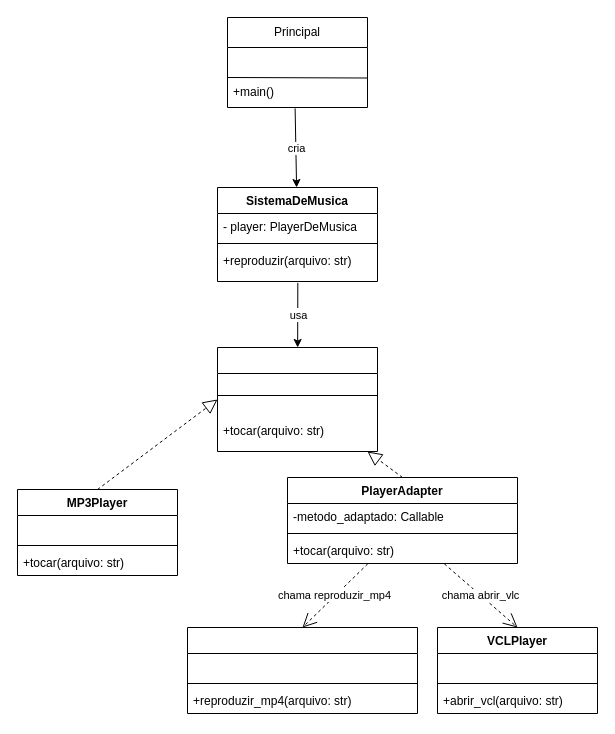
Some shapes in this 615 by 734 pixel diagram are drawn without their labels. The box of each missing label's shape, as (x1, y1, x2, y2) in pixels:
MP4Player: (186, 626, 418, 714)
PlayerDeMusica: (216, 346, 378, 452)
